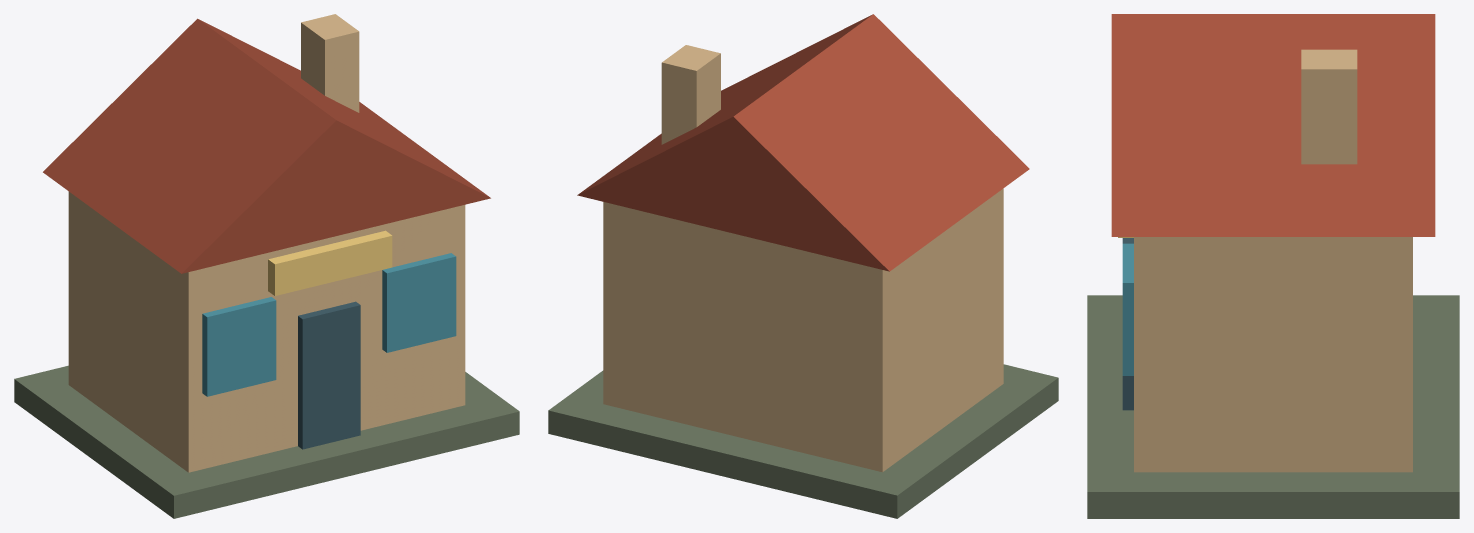
The model's file is Bakery.gltf.
3 views of the same model, side by side, from view 1: azimuth 30°, elevation 25°; view 2: azimuth 150°, elevation 25°; view 3: azimuth 270°, elevation 25° (orthographic). The views are drawn at different scales.
Parts seen in each view (by area): view 1: Roof, Walls, Foundation, Door, Window left, Window right, Sign, Chimney; view 2: Walls, Roof, Foundation, Chimney; view 3: Roof, Walls, Foundation, Chimney, Window right, Door.
Part boxes in pixels (bbox=[...]): Roof: bbox=[43, 18, 490, 273]; Walls: bbox=[68, 191, 465, 472]; Foundation: bbox=[14, 365, 519, 518]; Door: bbox=[298, 301, 360, 449]; Window left: bbox=[202, 297, 276, 396]; Window right: bbox=[382, 253, 456, 352]; Sign: bbox=[268, 230, 392, 295]; Chimney: bbox=[301, 14, 359, 112]; Walls: bbox=[603, 188, 1003, 472]; Roof: bbox=[577, 14, 1029, 271]; Foundation: bbox=[548, 364, 1058, 518]; Chimney: bbox=[661, 45, 720, 144]; Roof: bbox=[1111, 14, 1435, 236]; Walls: bbox=[1134, 237, 1412, 472]; Foundation: bbox=[1087, 295, 1459, 518]; Chimney: bbox=[1301, 49, 1357, 164]; Window right: bbox=[1122, 243, 1133, 375]; Door: bbox=[1122, 238, 1133, 410].
Bounding box in the file's own units: 2.5 × 2.44 × 2.
